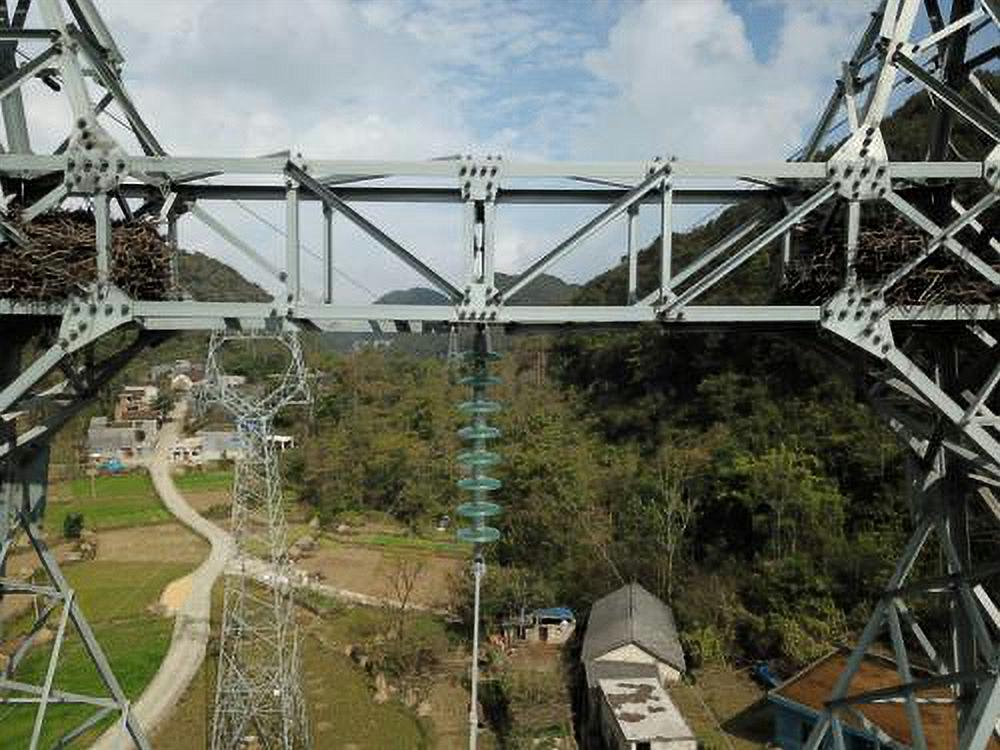insulator: (450, 342, 506, 549)
